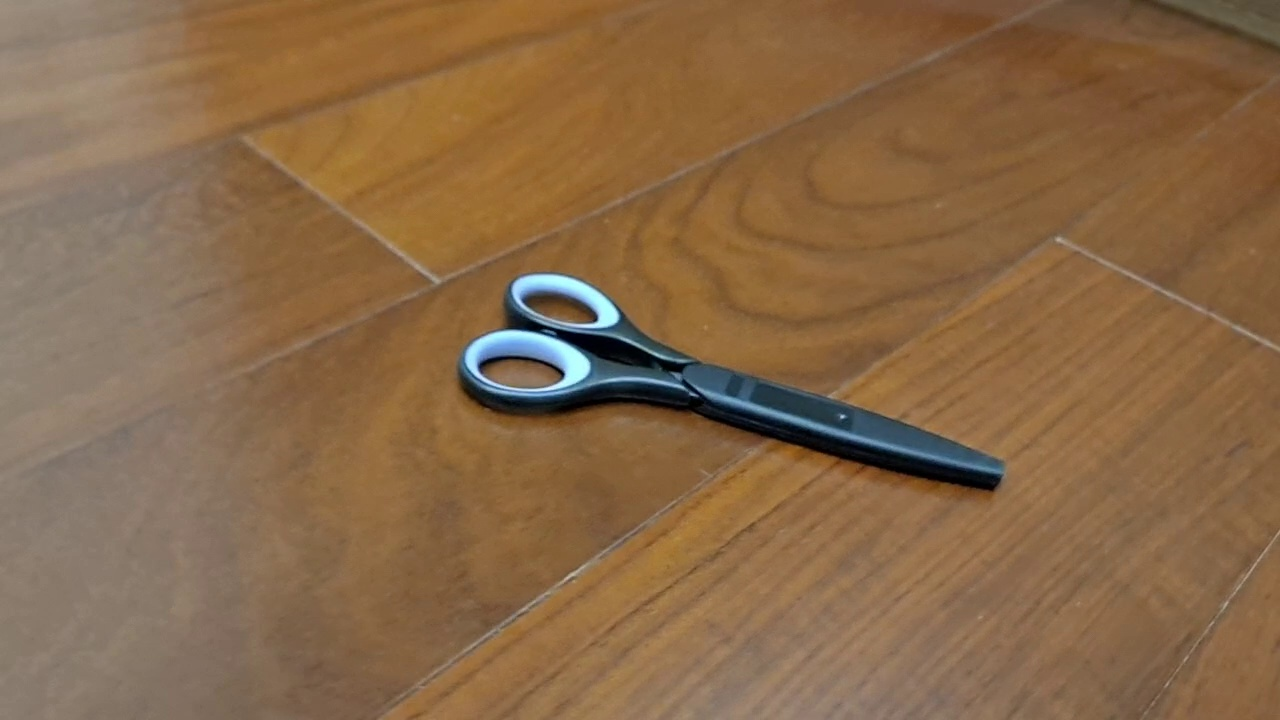scissors: (456, 270, 1008, 492)
